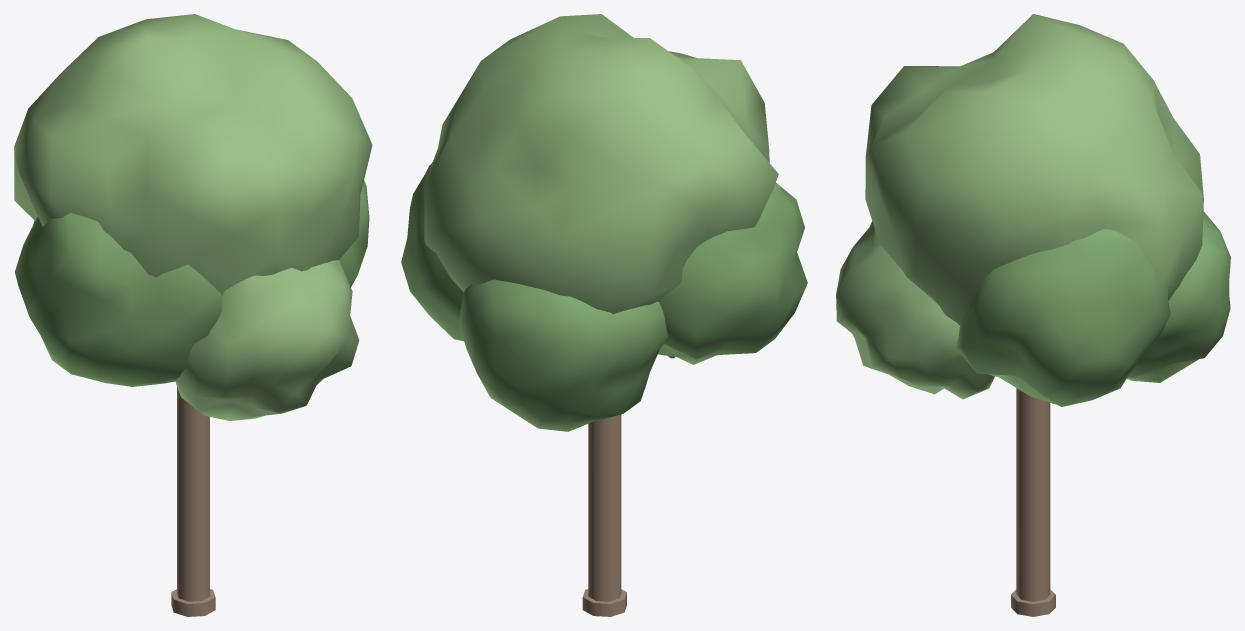
The model's file is willow_tree.glb.
The picture shows the model from 3 angles, left to right: view 1: azimuth 30°, elevation 25°; view 2: azimuth 150°, elevation 25°; view 3: azimuth 270°, elevation 25°; orthographic projection.
Visible parts, largest first — view 1: canopy_top, canopy_l, canopy_f, trunk, canopy_r, root_flare; view 2: canopy_top, canopy_b, canopy_l, trunk, canopy_r, root_flare; view 3: canopy_top, canopy_r, canopy_f, canopy_b, trunk, root_flare.
Boxes of the visible parts, bbox=[...] form: canopy_top: bbox=[14, 14, 372, 295]; canopy_l: bbox=[15, 212, 221, 386]; canopy_f: bbox=[175, 260, 359, 420]; trunk: bbox=[177, 387, 209, 601]; canopy_r: bbox=[339, 180, 369, 286]; root_flare: bbox=[171, 589, 215, 616]; canopy_top: bbox=[424, 14, 778, 313]; canopy_b: bbox=[459, 279, 667, 431]; canopy_l: bbox=[658, 182, 807, 364]; trunk: bbox=[588, 414, 621, 601]; canopy_r: bbox=[401, 162, 463, 341]; root_flare: bbox=[582, 589, 626, 616]; canopy_top: bbox=[865, 14, 1203, 325]; canopy_r: bbox=[955, 229, 1170, 406]; canopy_f: bbox=[836, 221, 994, 399]; canopy_b: bbox=[1127, 211, 1230, 382]; trunk: bbox=[1016, 388, 1050, 601]; root_flare: bbox=[1011, 589, 1055, 616].
Bounding box in the file's own units: 2.82 × 4.48 × 2.81.
